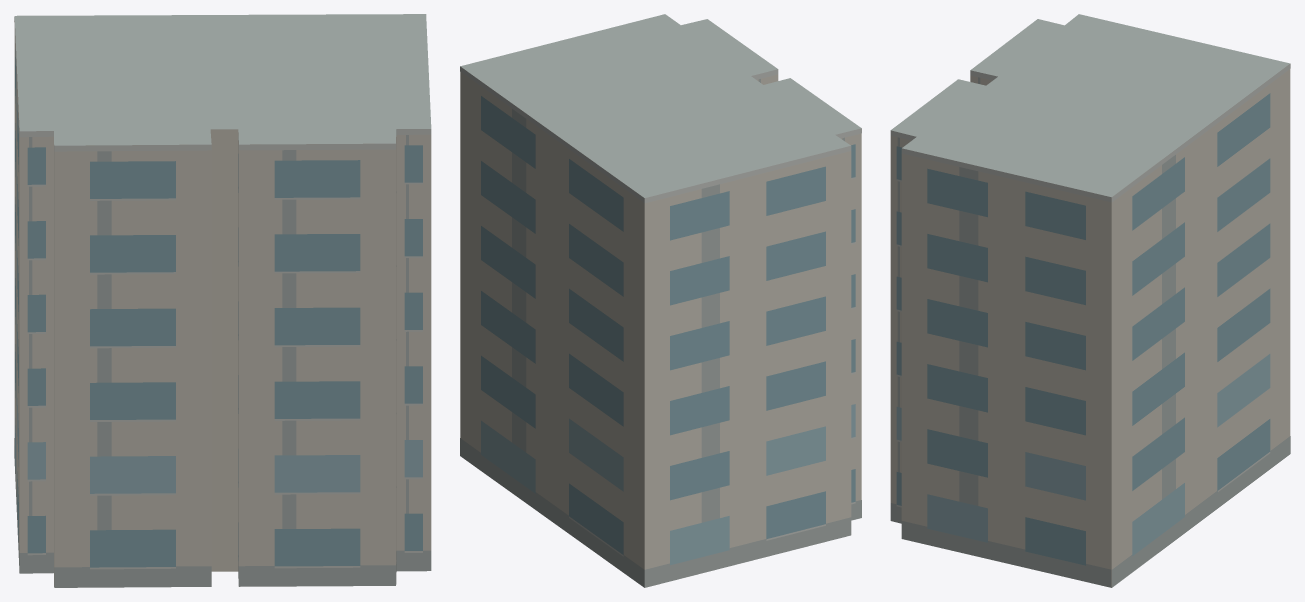
File: survey-upis-32850654.glb
The picture shows the model from 3 angles, left to right: view 1: azimuth 30°, elevation 25°; view 2: azimuth 150°, elevation 25°; view 3: azimuth 270°, elevation 25°; orthographic projection. The views are drawn at different scales.
Parts seen in each view (by area): view 1: survey-upis-32850654.tmp; view 2: survey-upis-32850654.tmp; view 3: survey-upis-32850654.tmp.
Boxes of the visible parts, <box> form: survey-upis-32850654.tmp: <box>14,14,431,587</box>; survey-upis-32850654.tmp: <box>460,14,861,587</box>; survey-upis-32850654.tmp: <box>890,14,1290,587</box>.
Size of the model in its own units: 18.42 by 18.3 by 16.98.
